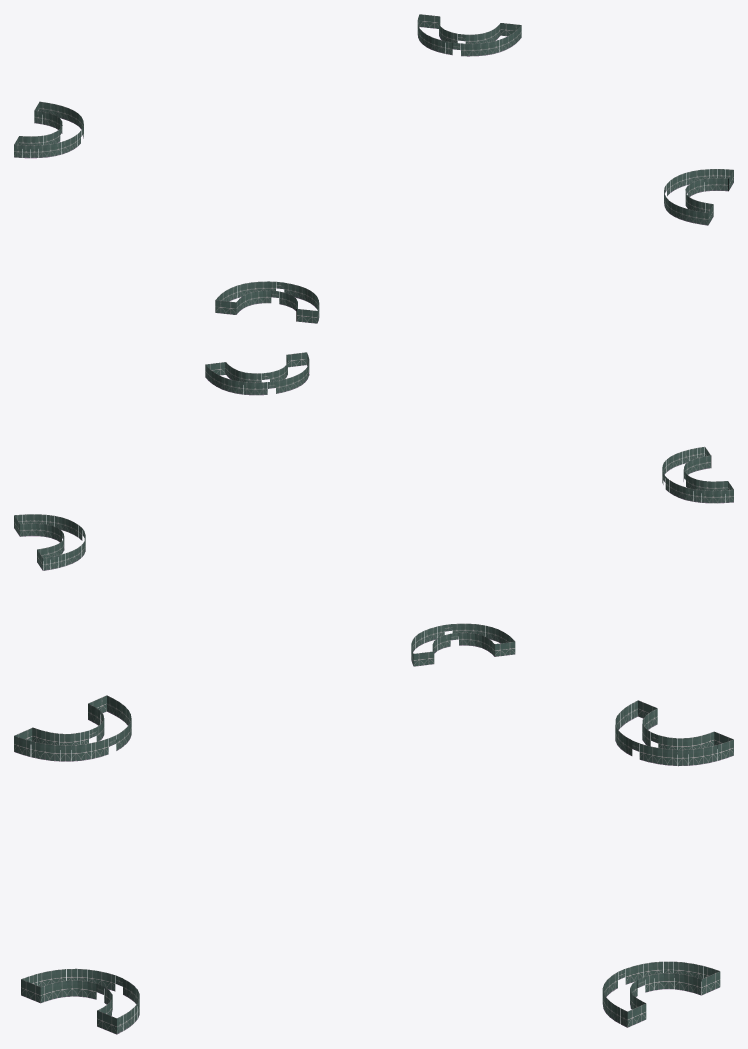
Rendered from XANA_Summit_Base01Glass.fbx.
3 renders of one model, top to bottom at view 1: azimuth 30°, elevation 25°; view 2: azimuth 150°, elevation 25°; view 3: azimuth 270°, elevation 25°, orthographic. The views are drawn at different scales.
Visible parts, largest first — view 1: Base02, Base04, Base01, Base03; view 2: Base03, Base01, Base02, Base04; view 3: Base03, Base04, Base02, Base01.
Part boxes in pixels (box(x1,y1,x2,y2)): Base02: box(417, 14, 521, 56); Base04: box(215, 281, 319, 323); Base01: box(664, 169, 733, 225); Base03: box(14, 101, 83, 158); Base03: box(411, 623, 515, 666); Base01: box(205, 352, 309, 395); Base02: box(14, 514, 85, 570); Base04: box(662, 446, 733, 503); Base03: box(615, 700, 733, 766); Base04: box(14, 695, 131, 761); Base02: box(602, 961, 720, 1027); Base01: box(21, 968, 139, 1034).
Bounding box in the file's own units: 23944 × 563 × 22542.
